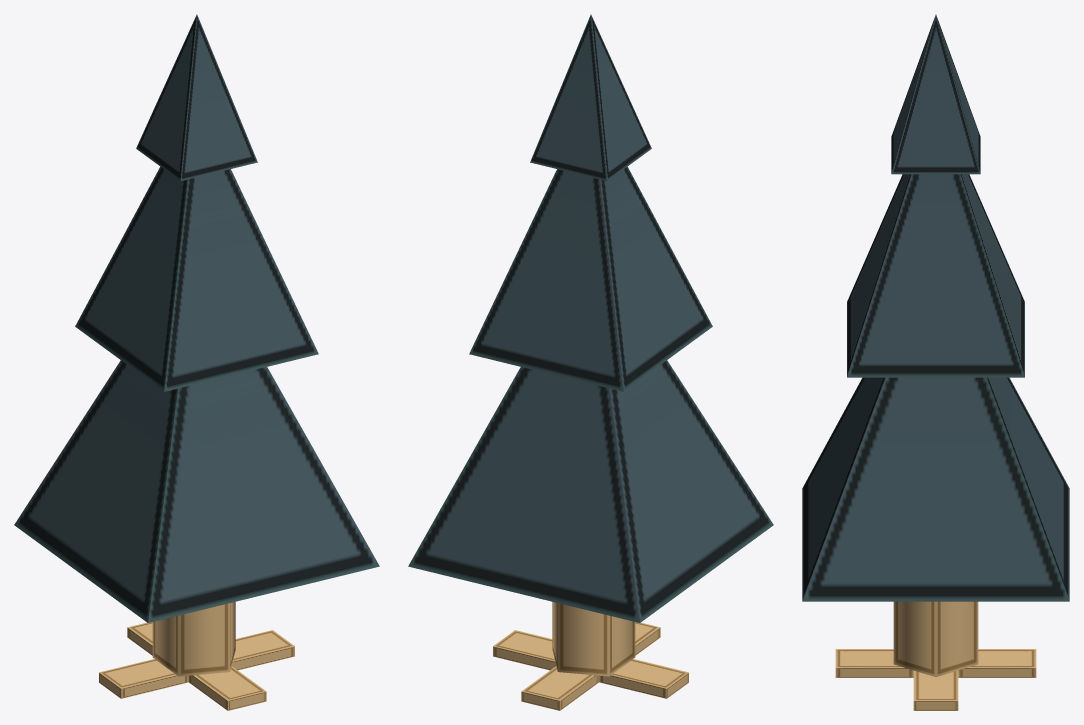
Rendered from Tree008.FBX.
3 views of the same model, side by side, from view 1: azimuth 30°, elevation 25°; view 2: azimuth 150°, elevation 25°; view 3: azimuth 270°, elevation 25° (orthographic).
Visible parts, largest first — view 1: tree008; view 2: tree008; view 3: tree008.
Boxes of the visible parts, x1,y1,x2,y2 form: tree008: (14, 14, 379, 710); tree008: (408, 14, 773, 710); tree008: (802, 14, 1069, 710).
Size of the model in its own units: 120 by 324 by 120.
Materials: 1 (1 with a texture image).
